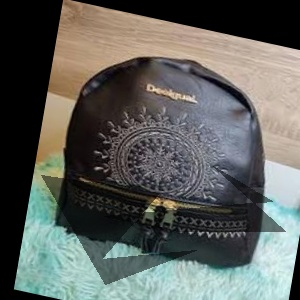desigual: (157, 55, 252, 137)
